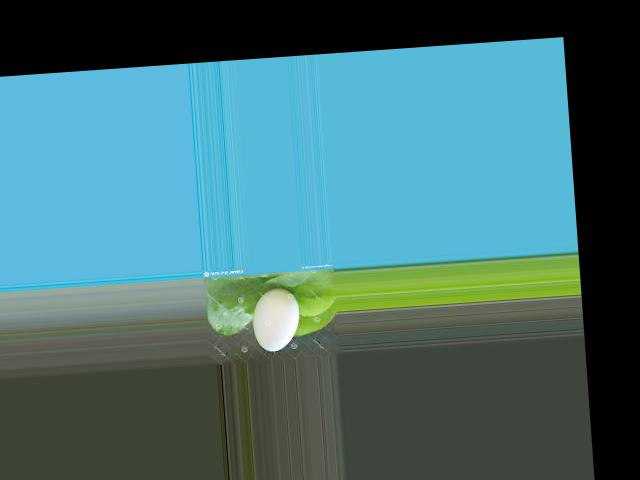egg: (251, 286, 302, 352)
